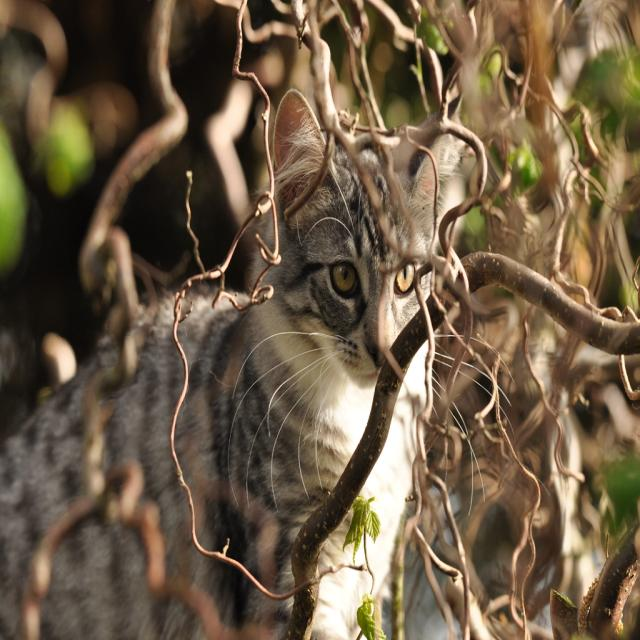Cat: (0, 85, 469, 636)
